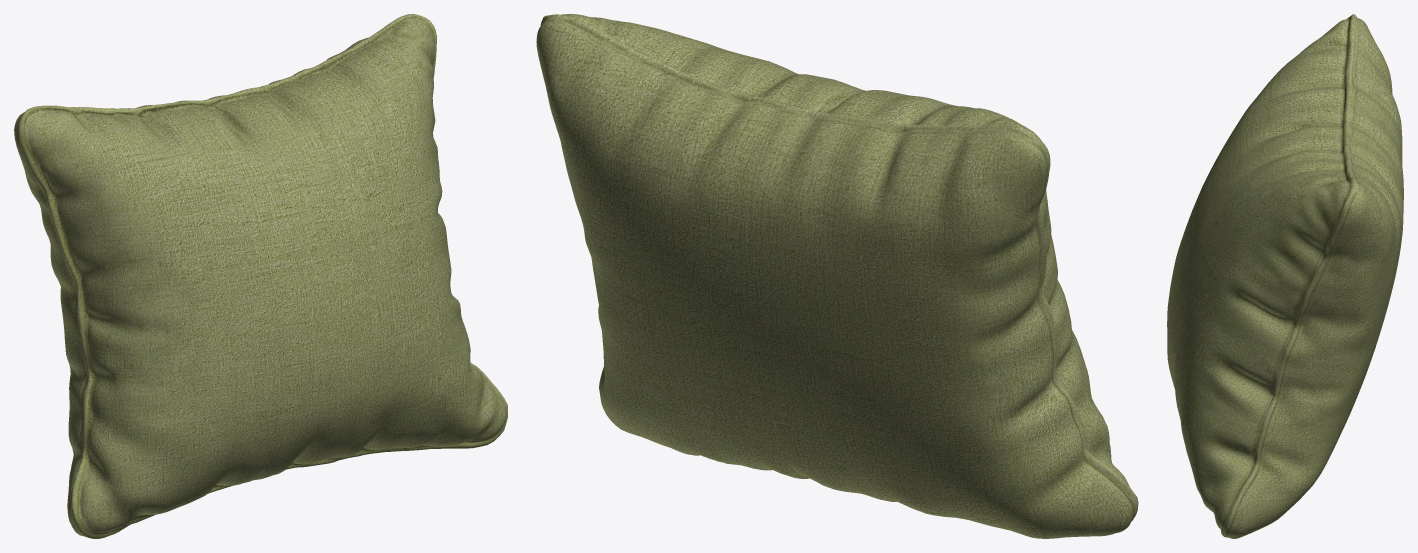
The picture shows the model from 3 angles, left to right: view 1: azimuth 30°, elevation 25°; view 2: azimuth 150°, elevation 25°; view 3: azimuth 270°, elevation 25°; orthographic projection. The views are drawn at different scales.
Visible parts, largest first — view 1: tripo_node_18d8722a; view 2: tripo_node_18d8722a; view 3: tripo_node_18d8722a.
Boxes of the visible parts, <box> form: tripo_node_18d8722a: <box>14,14,507,538</box>; tripo_node_18d8722a: <box>536,14,1138,538</box>; tripo_node_18d8722a: <box>1167,14,1403,538</box>.
Bounding box in the file's own units: 99.57 × 83.57 × 51.01.
Materials: 1 (1 with a texture image).
